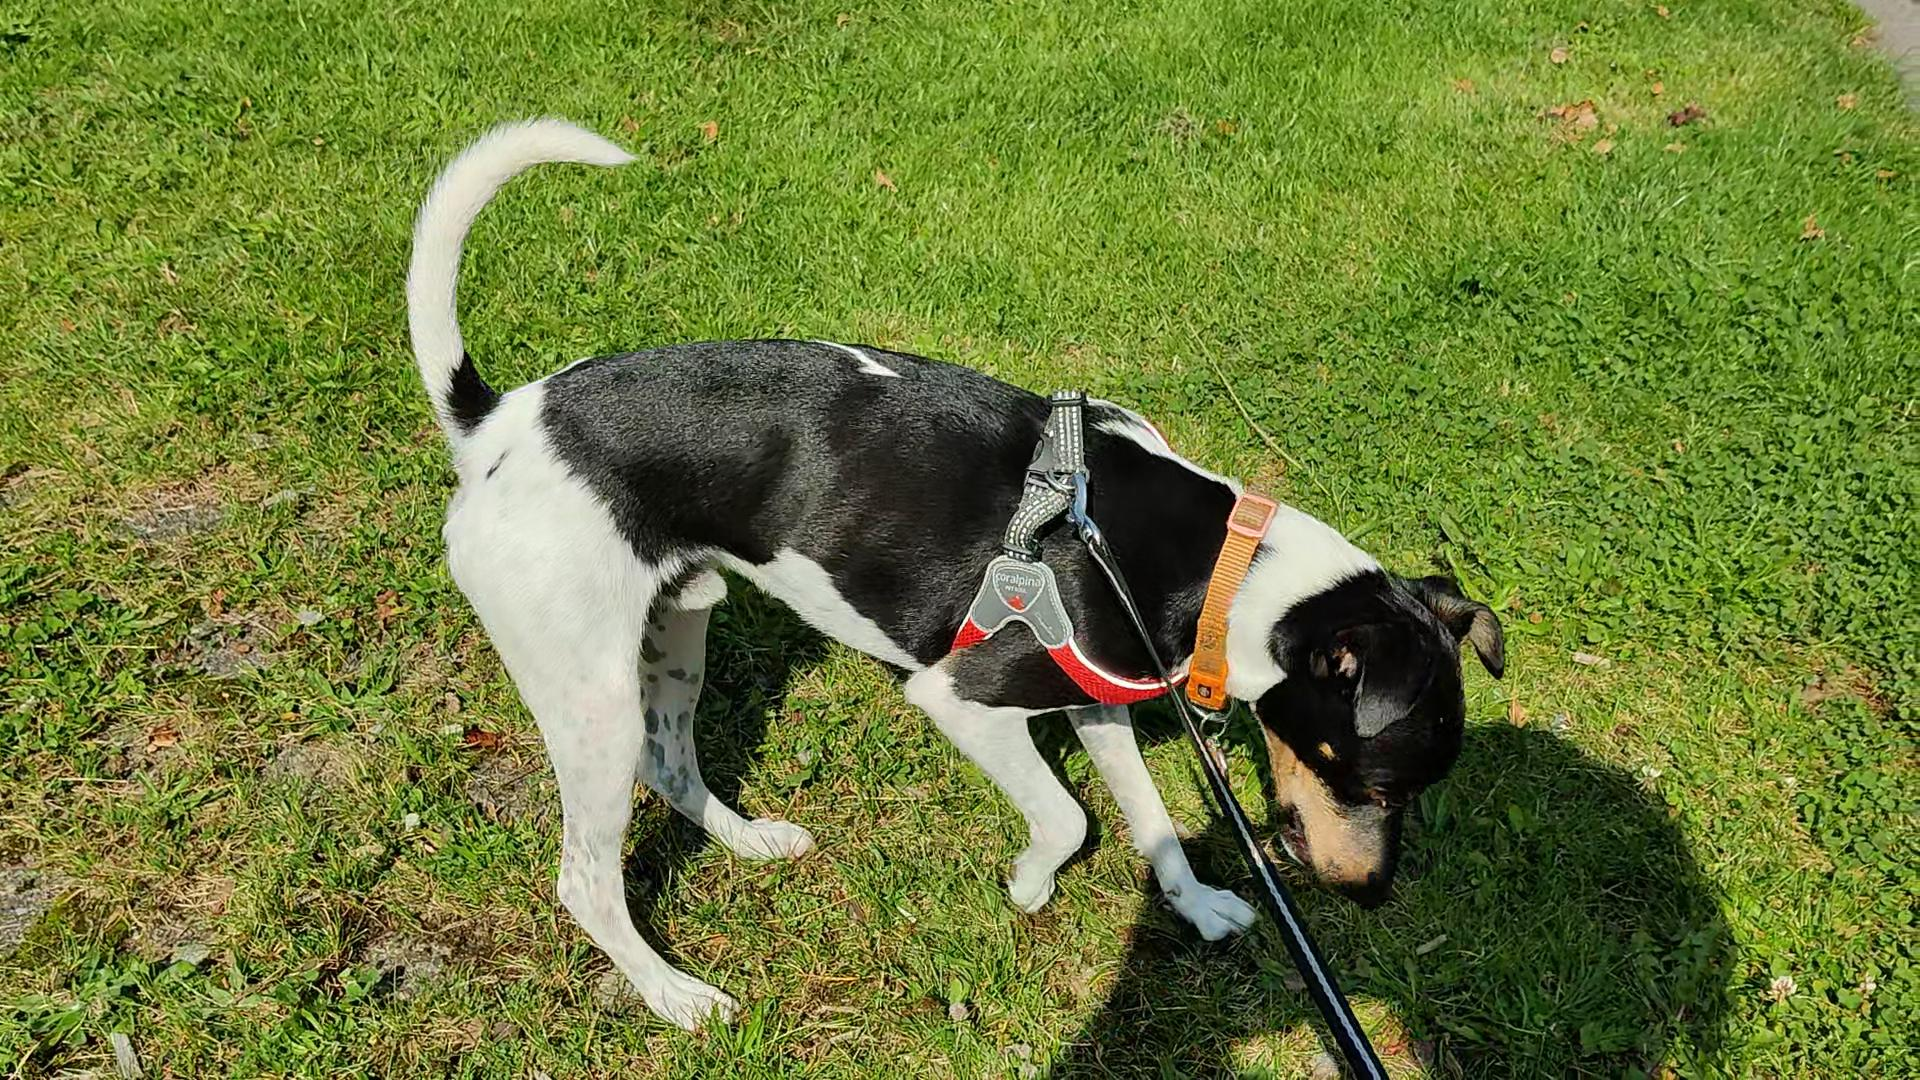Dog: (382, 100, 1526, 1048)
